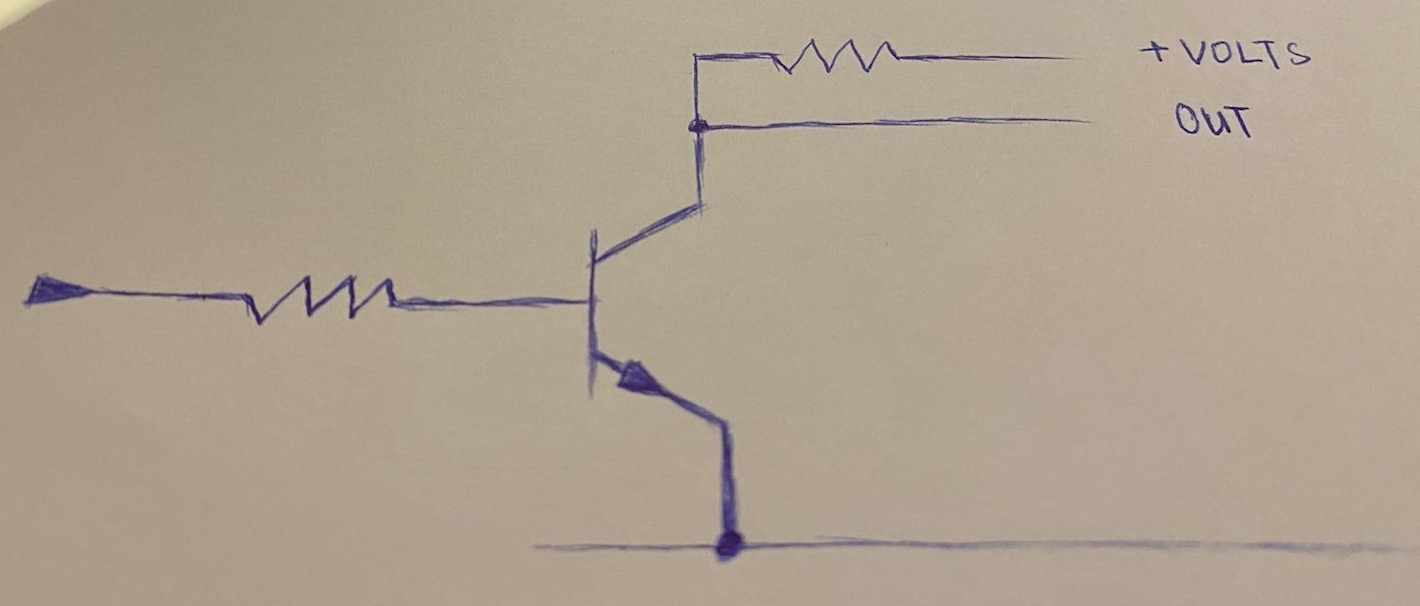junction: (691, 515, 783, 576), (681, 103, 719, 146), (687, 48, 705, 65)
resistor: (226, 270, 408, 335), (759, 29, 908, 82)
terminal: (9, 260, 106, 318), (1343, 533, 1414, 567), (525, 536, 564, 558), (1062, 113, 1102, 132), (1046, 48, 1084, 68)
text: (1176, 29, 1317, 74), (1169, 93, 1261, 148), (1137, 31, 1172, 69)
transistor: (575, 196, 757, 444)
